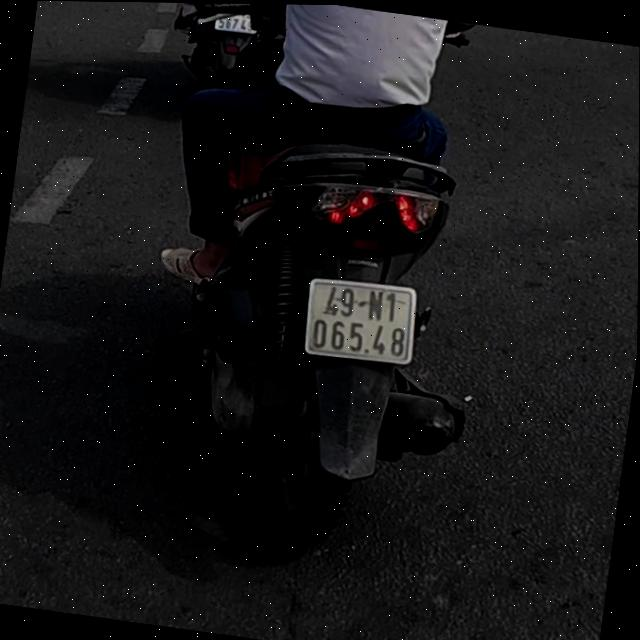motorcycle: (167, 130, 504, 566)
plate: (297, 274, 423, 370)
